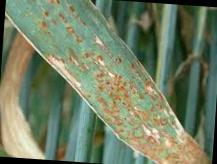Wheat: (51, 45, 180, 158)
